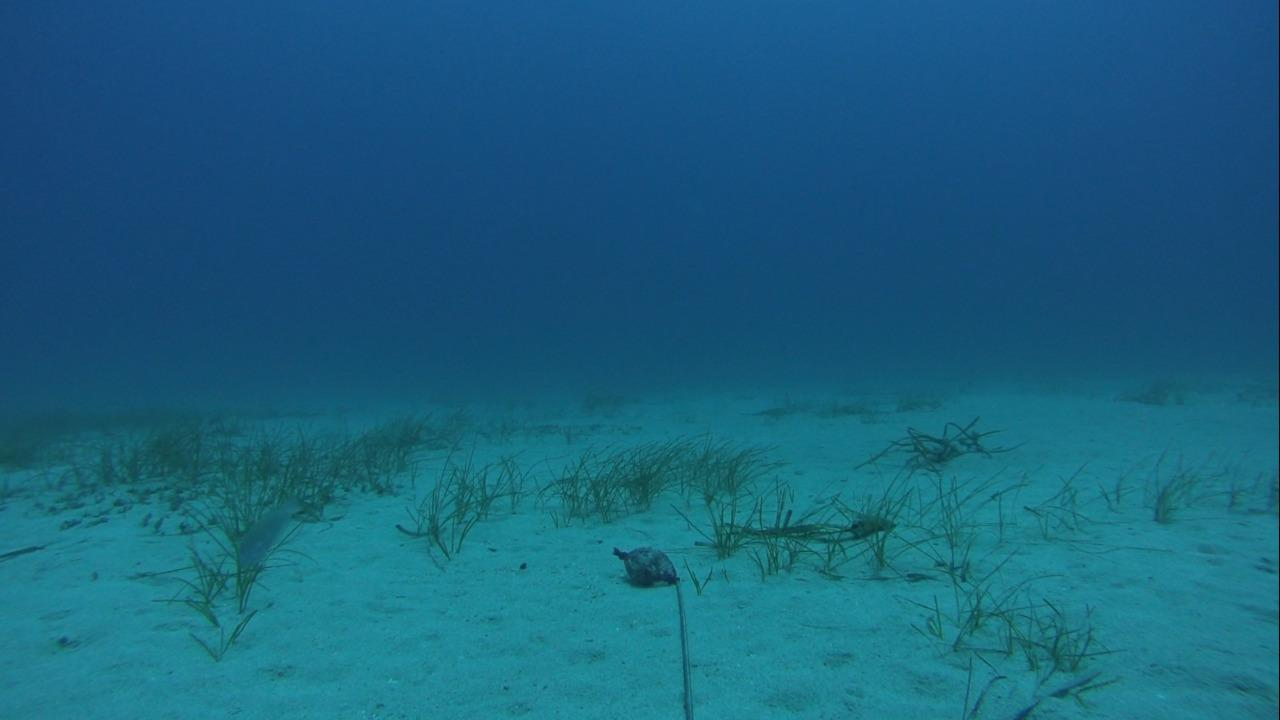raor: (233, 494, 302, 577)
